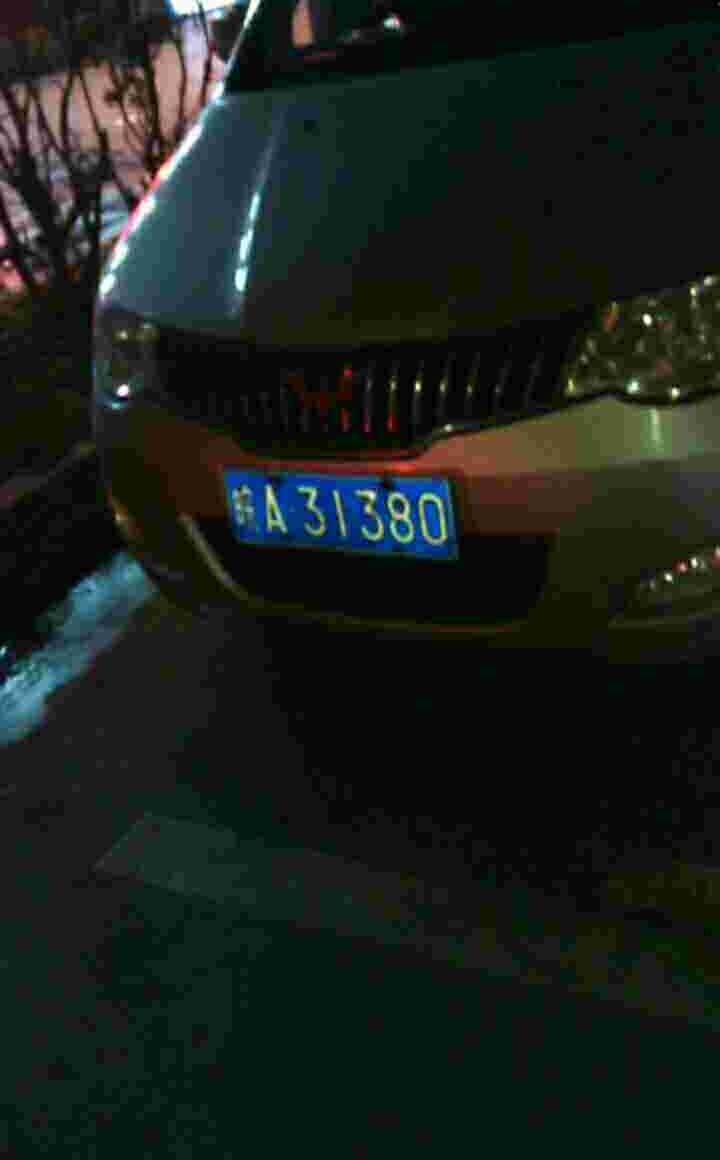license_plate: (220, 467, 466, 566)
